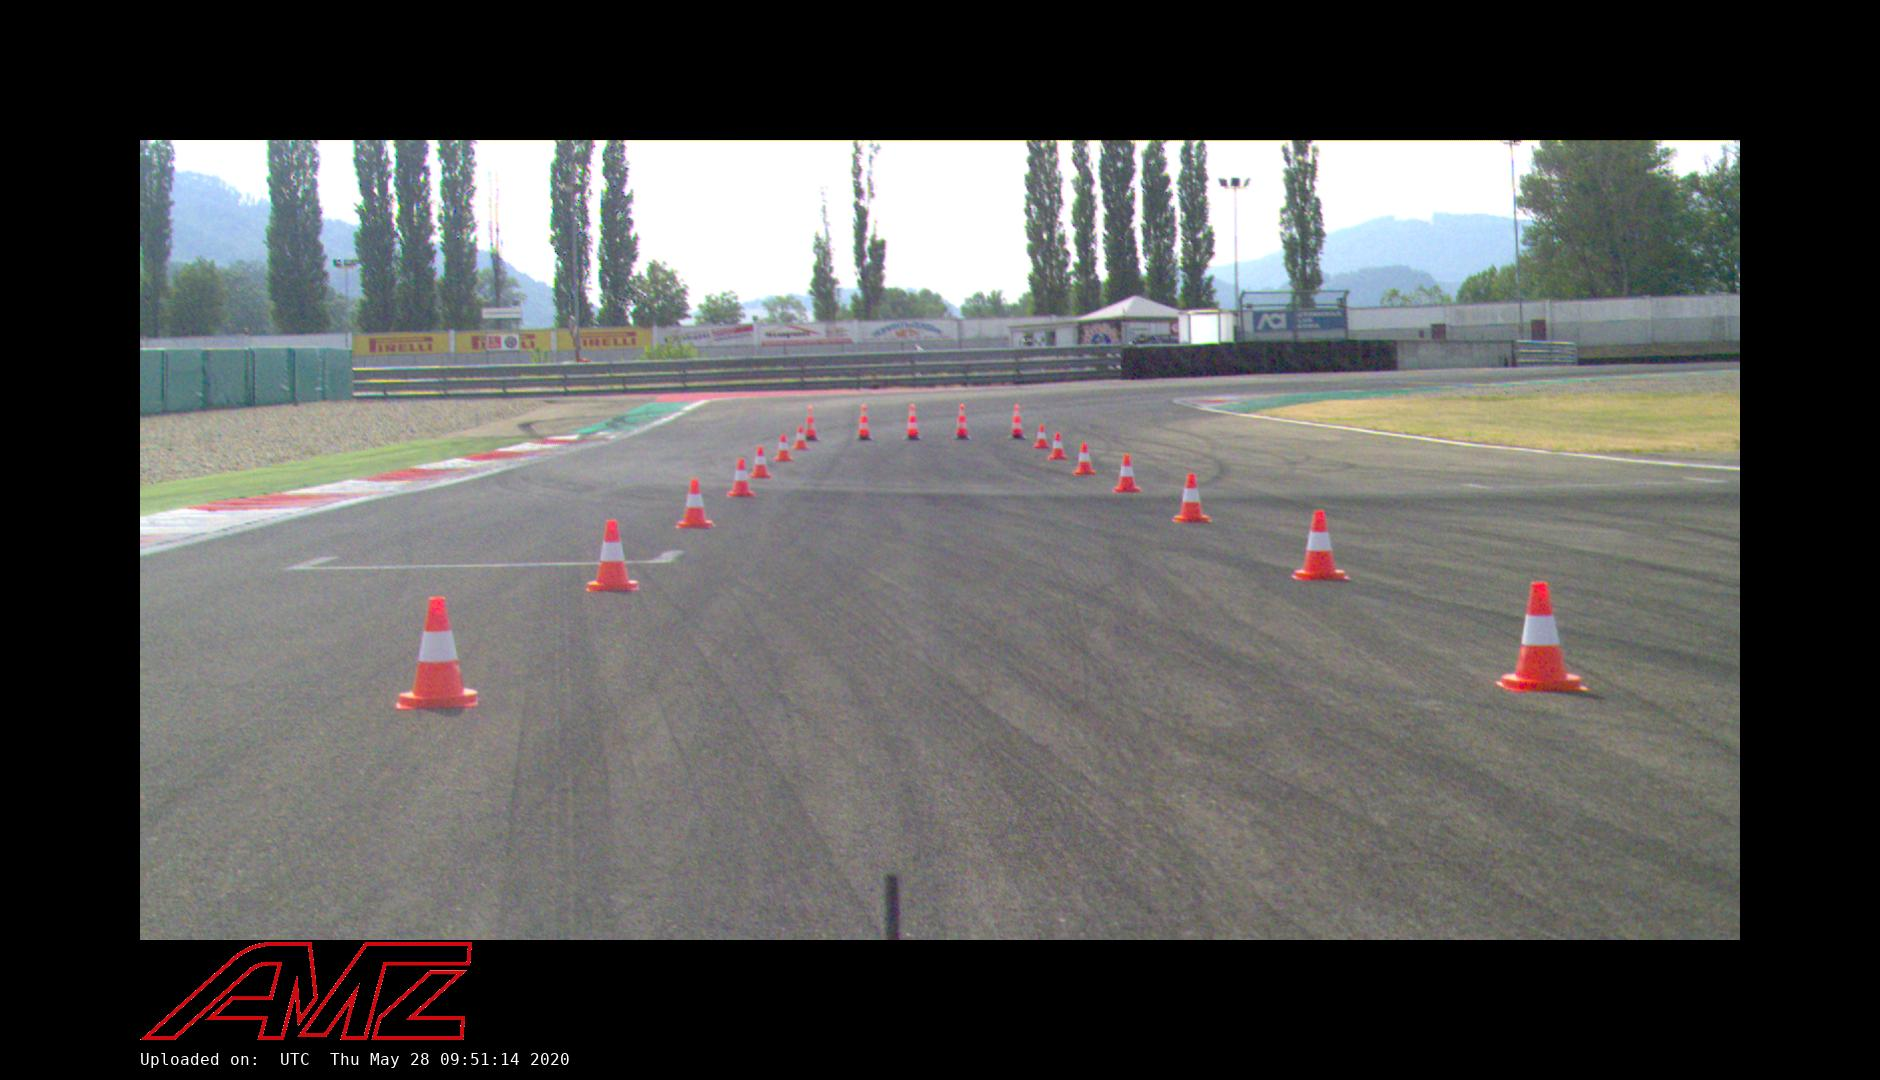large_orange_cone: (904, 404, 922, 441), (855, 406, 873, 441), (954, 404, 971, 441), (1008, 406, 1027, 439), (804, 407, 817, 441)
orange_cone: (1495, 583, 1588, 692), (395, 596, 479, 711), (1291, 510, 1349, 580), (584, 519, 638, 590), (1172, 473, 1212, 523), (675, 478, 715, 528), (1113, 453, 1141, 493), (726, 459, 754, 497), (1073, 443, 1096, 475), (750, 446, 771, 479), (773, 434, 793, 462), (1048, 434, 1067, 461), (1033, 425, 1050, 450), (793, 426, 810, 451)
